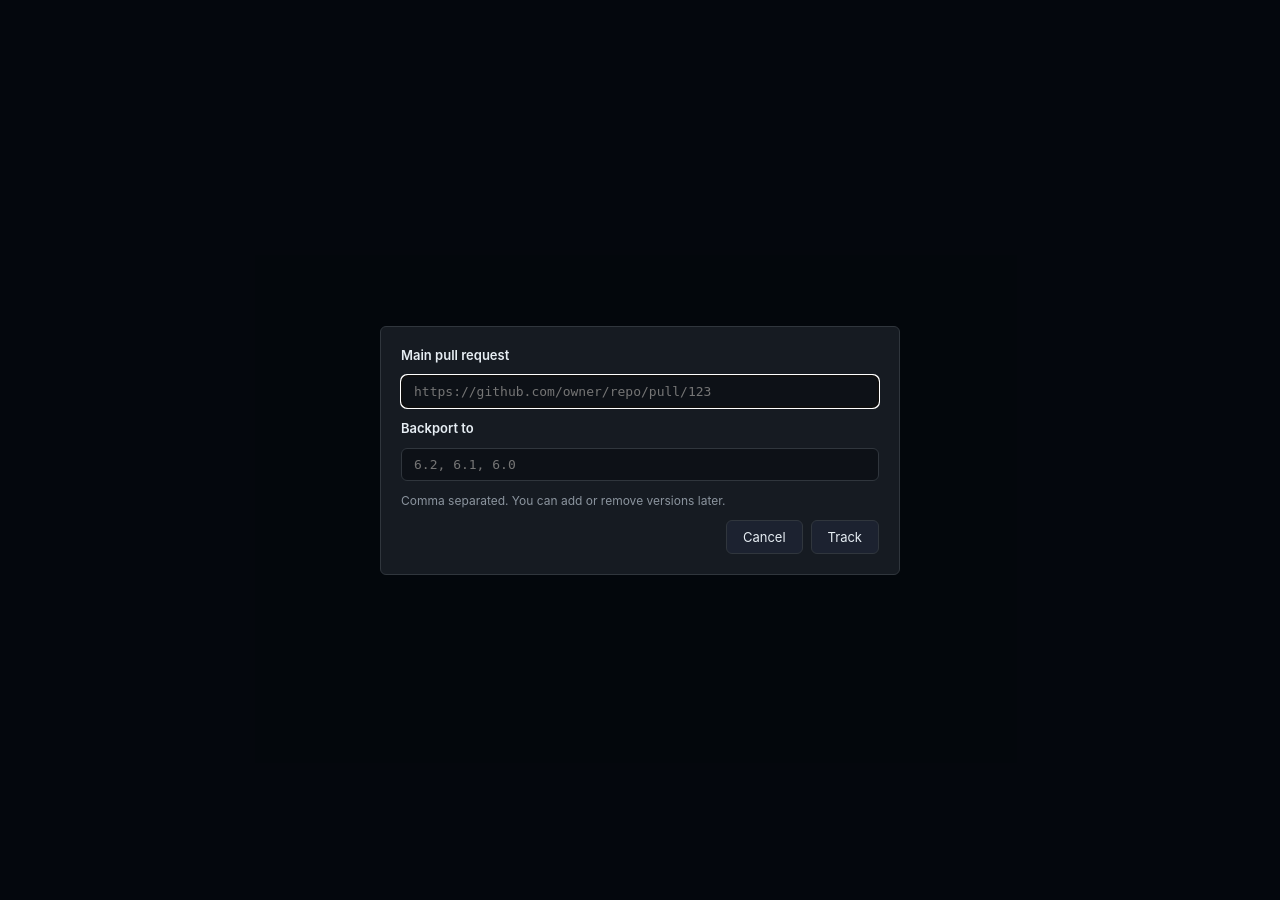
AddBackportGroupDialog — version detection › shows a Detecting placeholder while the lookup is in flight
The width and height of the screenshot is (1280, 900).
Type "https://github.com/Example/example-server/pull/4821" into the field labelled "Main pull request".
click(640, 391); type("https://github.com/Example/example-server/pull/4821")  # box [401,374,879,408]
Wait 500 ms
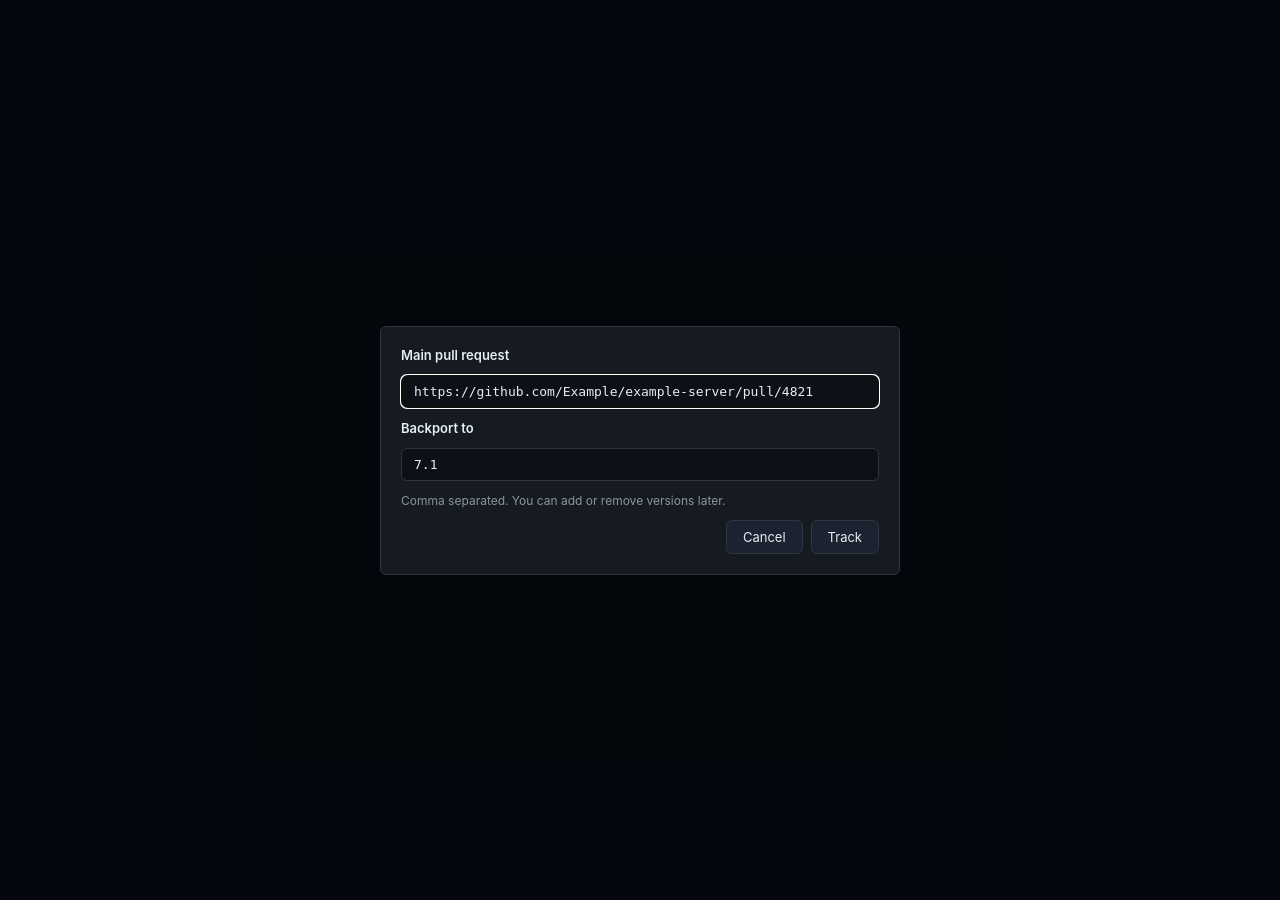
Expected: the field labelled "Backport to" holds "7.1", [401,448,879,480]
